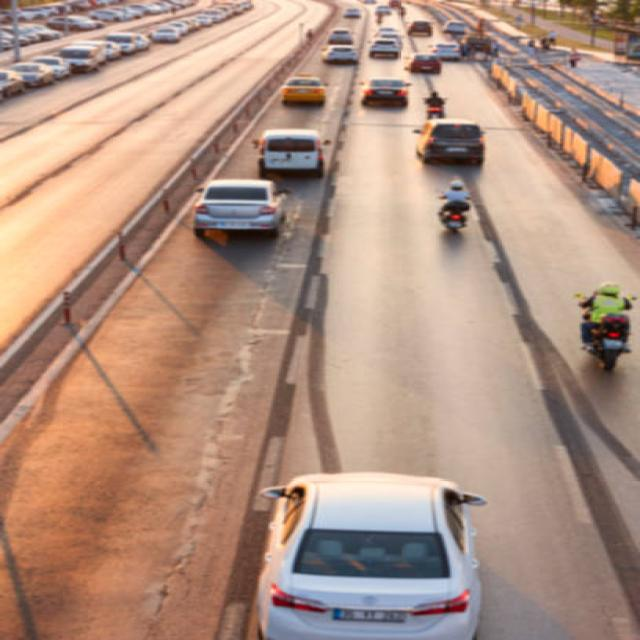no-low traffic: (0, 0, 600, 344)
